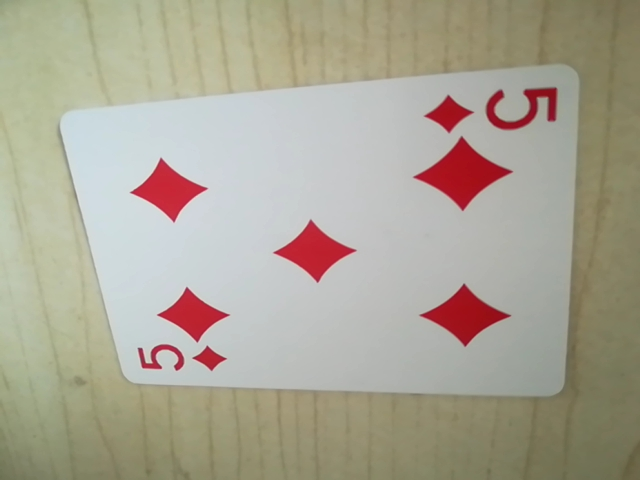fk 5: (422, 78, 559, 140), (130, 335, 233, 382)
